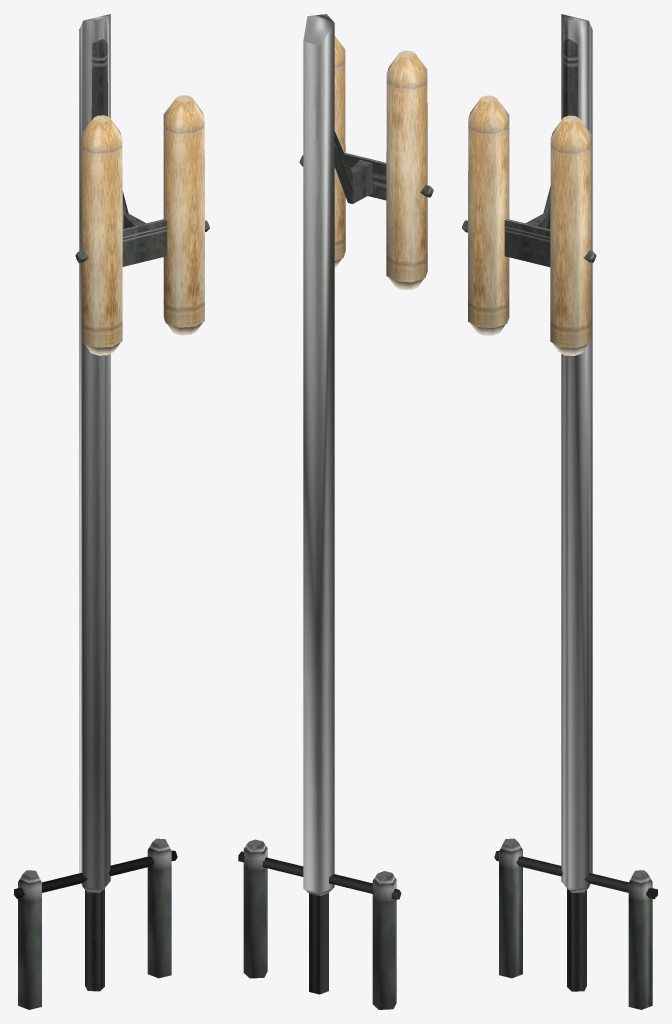
The model's file is frn_all_streetlamp_lg_s1_l0.fbx.
3 views of the same model, side by side, from view 1: azimuth 30°, elevation 25°; view 2: azimuth 150°, elevation 25°; view 3: azimuth 330°, elevation 25° (orthographic).
Visible parts, largest first — view 1: mesh_node; view 2: mesh_node; view 3: mesh_node.
Part boxes in pixels (x1,y1,x2,y2): mesh_node: (14, 14, 209, 1009); mesh_node: (238, 14, 433, 1009); mesh_node: (462, 14, 657, 1009).
Size of the model in its own units: 0.6918 by 4.06 by 0.4961.
